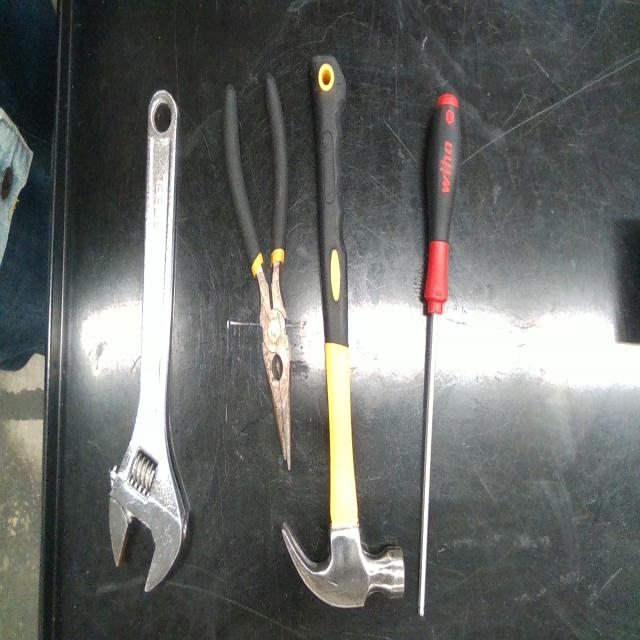Screwdriver: (418, 93, 461, 614)
